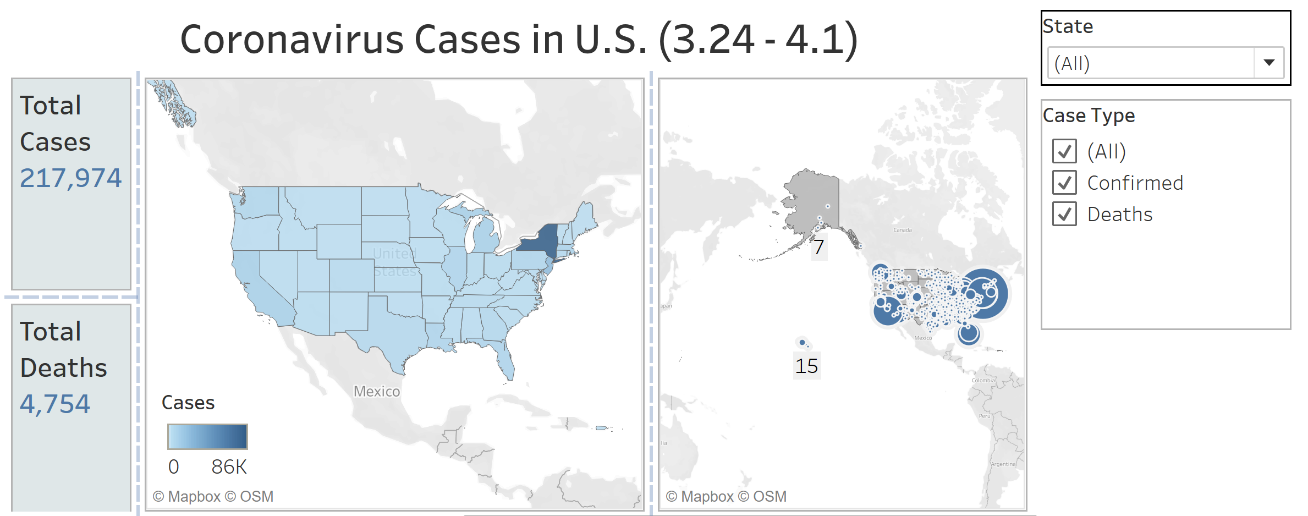

Layout of this report page (visuals, bound fields, positions):
{"tool":"tableau","page":{"name":"US Dashboard","canvas":[1000,800],"ordinal":0},"visuals":[{"type":"title","box":[8,8,984,58]},{"type":"worksheet","title":"Sheet 7","mark":"Automatic","box":[8,66,127.3,183]},{"type":"worksheet","title":"US Map","mark":"Automatic","box":[135.3,66,490.4,363]},{"type":"worksheet","title":"Cases in California (4.1)","mark":"Multipolygon","box":[625.7,66,366.3,363]},{"type":"worksheet","title":"Sheet 8","mark":"Automatic","box":[8,249,127.3,179.9]},{"type":"legend","title":"US Map","param":"[federated.1uhcue50k8wwo712lrj8w0s4ncvy].[sum:Cases:qk]","box":[146,322,71,75]},{"type":"worksheet","title":"Cases by State","mark":"Square","rows":["Province_State"],"cols":["Case_Type"],"box":[8,429,441.5,363]},{"type":"worksheet","title":"Cases by Date (3.24 - 4.1)","mark":"Automatic","rows":["Cases"],"cols":["Date"],"box":[449.5,429,542.5,363]},{"type":"legend","title":"Cases by Date (3.24 - 4.1)","param":"[federated.1uhcue50k8wwo712lrj8w0s4ncvy].[none:Case_Type:nk]","box":[635,438,103,79]}]}

Visuals, with their boxes on the page's 1000x800 design canvas (x1, y1, x2, y2). These are canvas units, not pixel positions in the 1308x516 screenshot, which may show the page scaled, cropped or inside an application window:
title: (8,8,992,66)
"Sheet 7" worksheet: (8,66,135,249)
"US Map" worksheet: (135,66,626,429)
"Cases in California (4.1)" worksheet (Multipolygon marks): (626,66,992,429)
"Sheet 8" worksheet: (8,249,135,429)
"US Map" legend: (146,322,217,397)
"Cases by State" worksheet (Square marks): (8,429,450,792)
"Cases by Date (3.24 - 4.1)" worksheet: (450,429,992,792)
"Cases by Date (3.24 - 4.1)" legend: (635,438,738,517)
